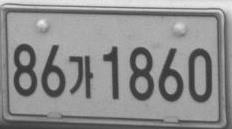0: (187, 47, 213, 103)
1: (100, 45, 126, 100)
6: (157, 46, 184, 102), (40, 44, 66, 97)
8: (128, 46, 155, 101), (12, 42, 38, 97)
가: (68, 54, 94, 99)
